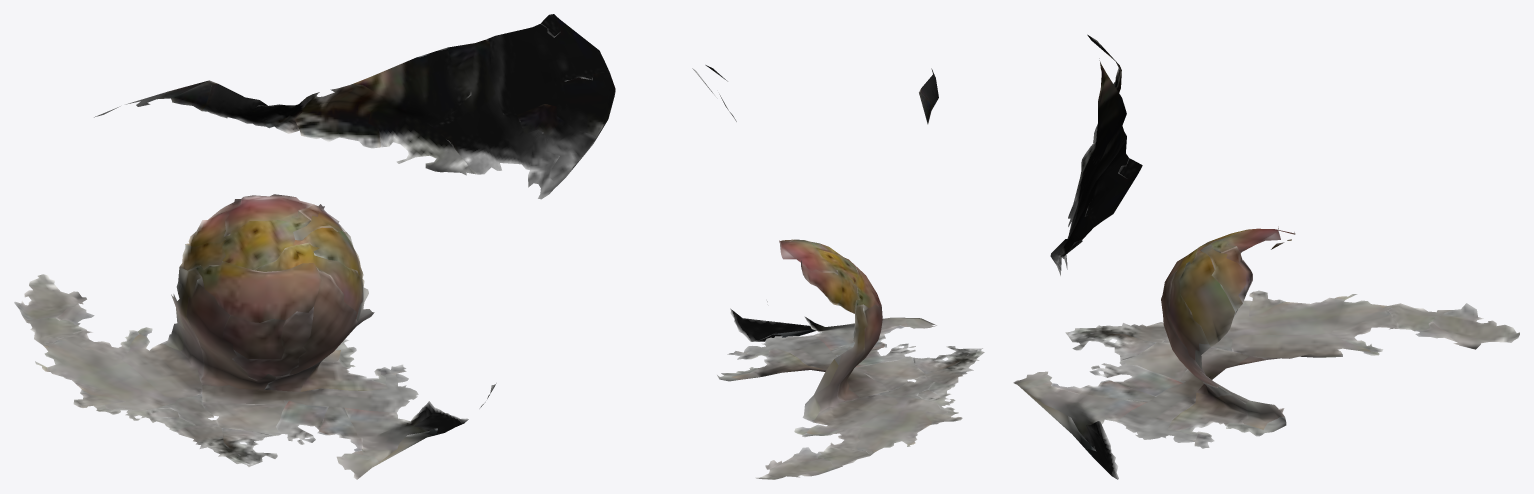
The model's file is hall.glb.
3 views of the same model, side by side, from view 1: azimuth 30°, elevation 25°; view 2: azimuth 150°, elevation 25°; view 3: azimuth 270°, elevation 25° (orthographic). The views are drawn at different scales.
Bounding box in the file's own units: 1.02 × 0.8073 × 1.03.
1 material, 1 textured.
